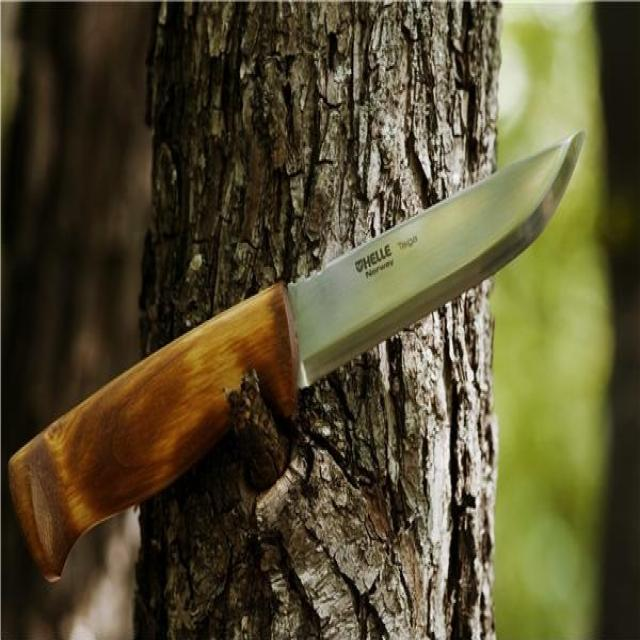knife: (7, 118, 589, 599)
